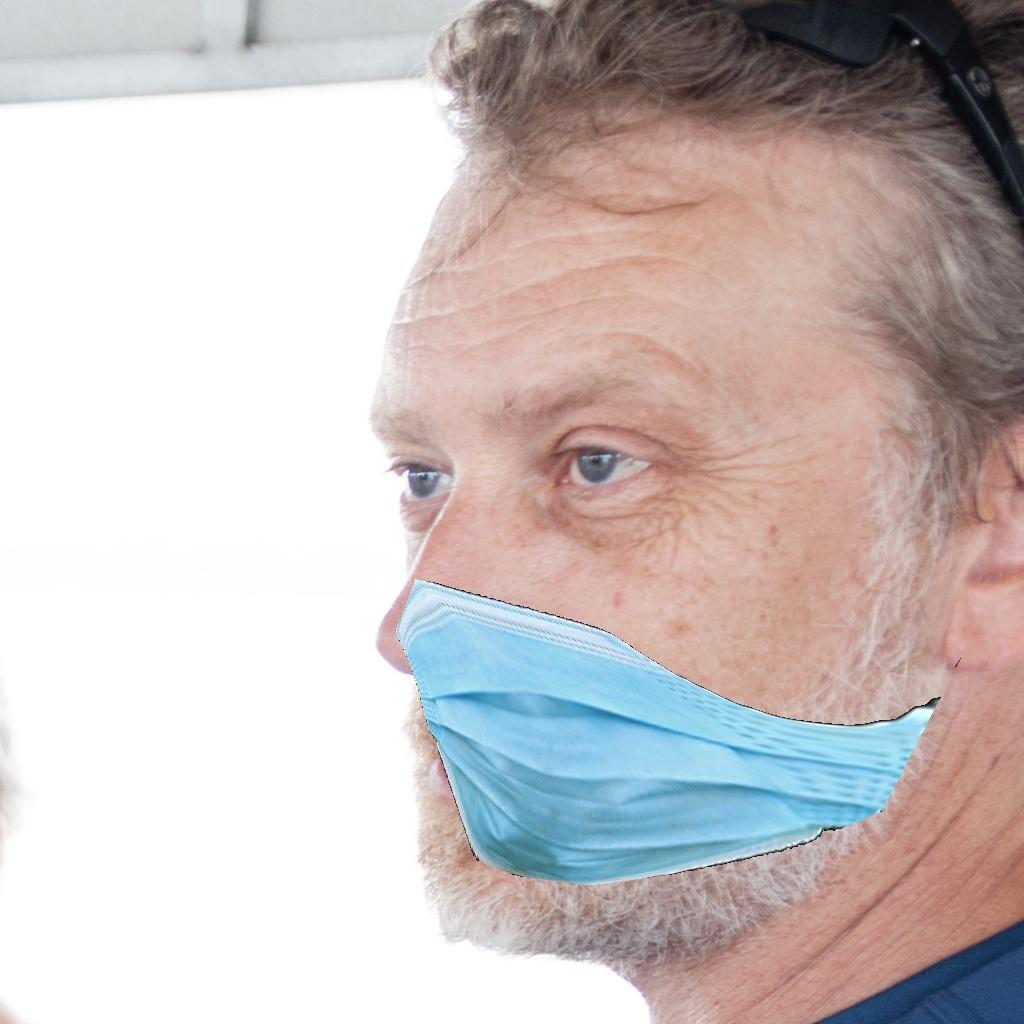Máscara Incorreta: (349, 309, 921, 946)
